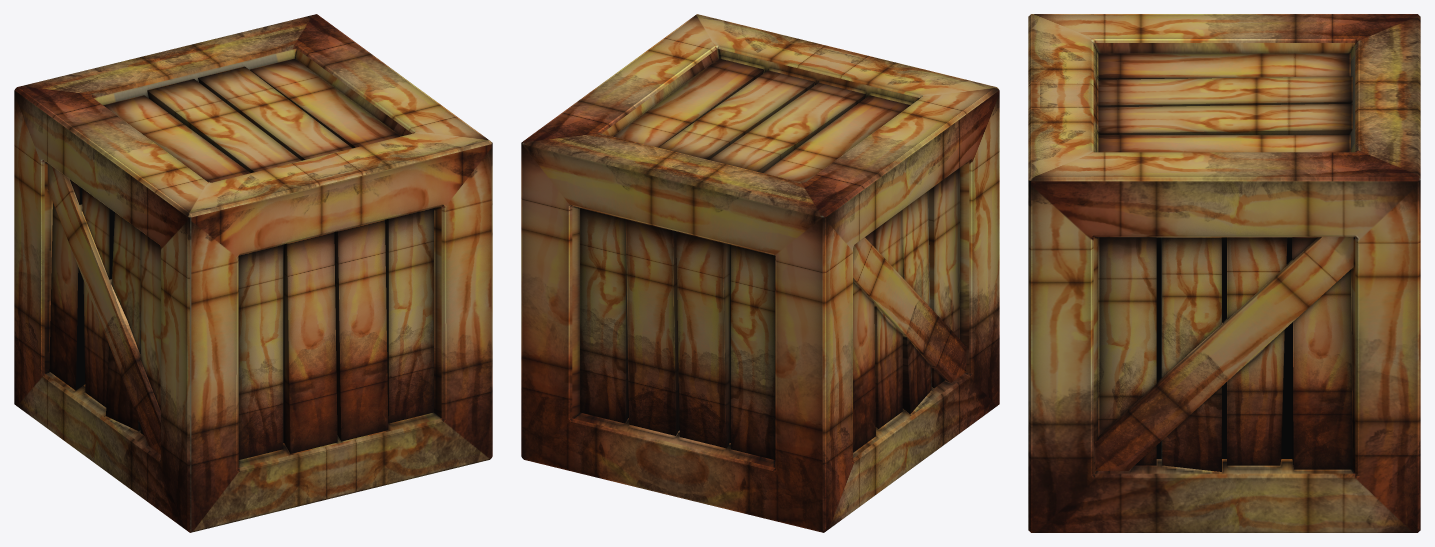
The model's file is crate01.FBX.
3 views of the same model, side by side, from view 1: azimuth 30°, elevation 25°; view 2: azimuth 150°, elevation 25°; view 3: azimuth 270°, elevation 25° (orthographic). The views are drawn at different scales.
Visible parts, largest first — view 1: crate_01; view 2: crate_01; view 3: crate_01.
Part boxes in pixels (x1,y1,x2,y2): crate_01: [14, 14, 492, 532]; crate_01: [521, 14, 999, 532]; crate_01: [1028, 14, 1420, 532].
Bounding box in the file's own units: 78.74 × 78.74 × 78.74.
